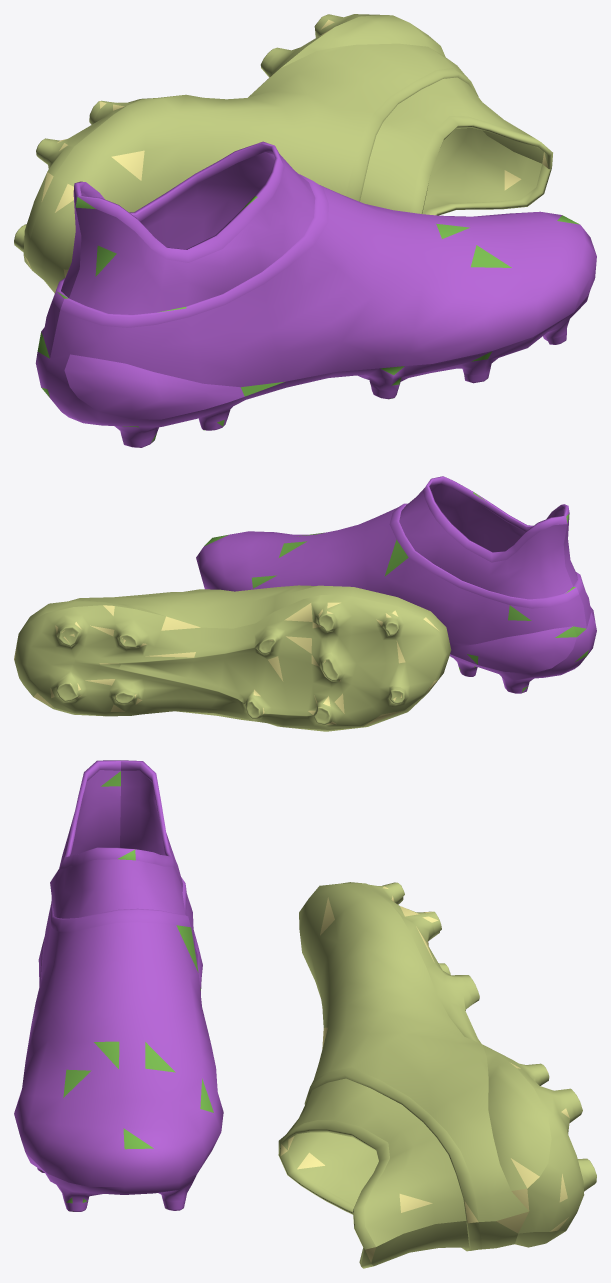
File: done.fbx
3 renders of one model, top to bottom at view 1: azimuth 30°, elevation 25°; view 2: azimuth 150°, elevation 25°; view 3: azimuth 270°, elevation 25°, orthographic. The views are drawn at different scales.
Parts seen in each view (by area): view 1: 000-0-0, 001-0-1; view 2: 001-0-1, 000-0-0; view 3: 001-0-1, 000-0-0.
Boxes of the visible parts, <box> form: 000-0-0: <box>35,141,596,447</box>; 001-0-1: <box>14,14,552,293</box>; 001-0-1: <box>14,585,451,731</box>; 000-0-0: <box>196,476,596,693</box>; 001-0-1: <box>278,882,596,1268</box>; 000-0-0: <box>14,760,223,1211</box>.
Bounding box in the file's own units: 2869 × 1114 × 2351.
